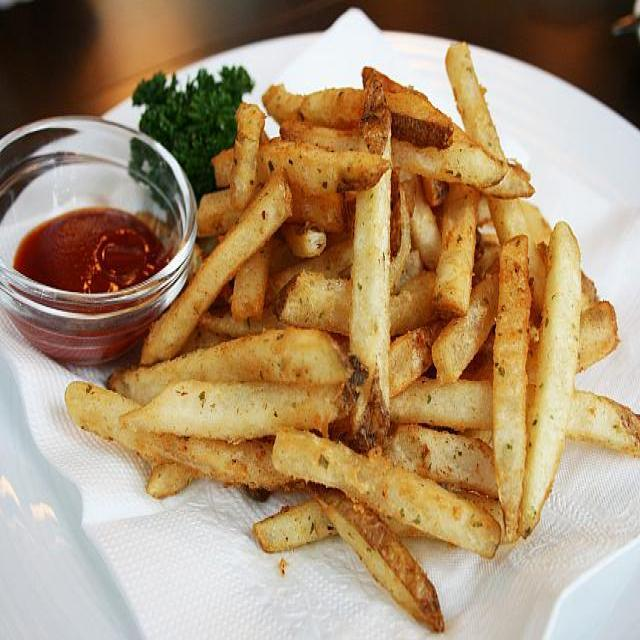French Fries: (178, 82, 640, 578)
